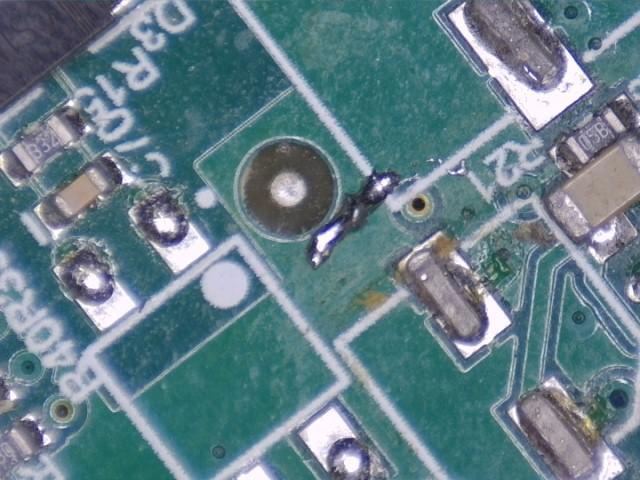Incorrect_installation: (542, 129, 640, 266)
